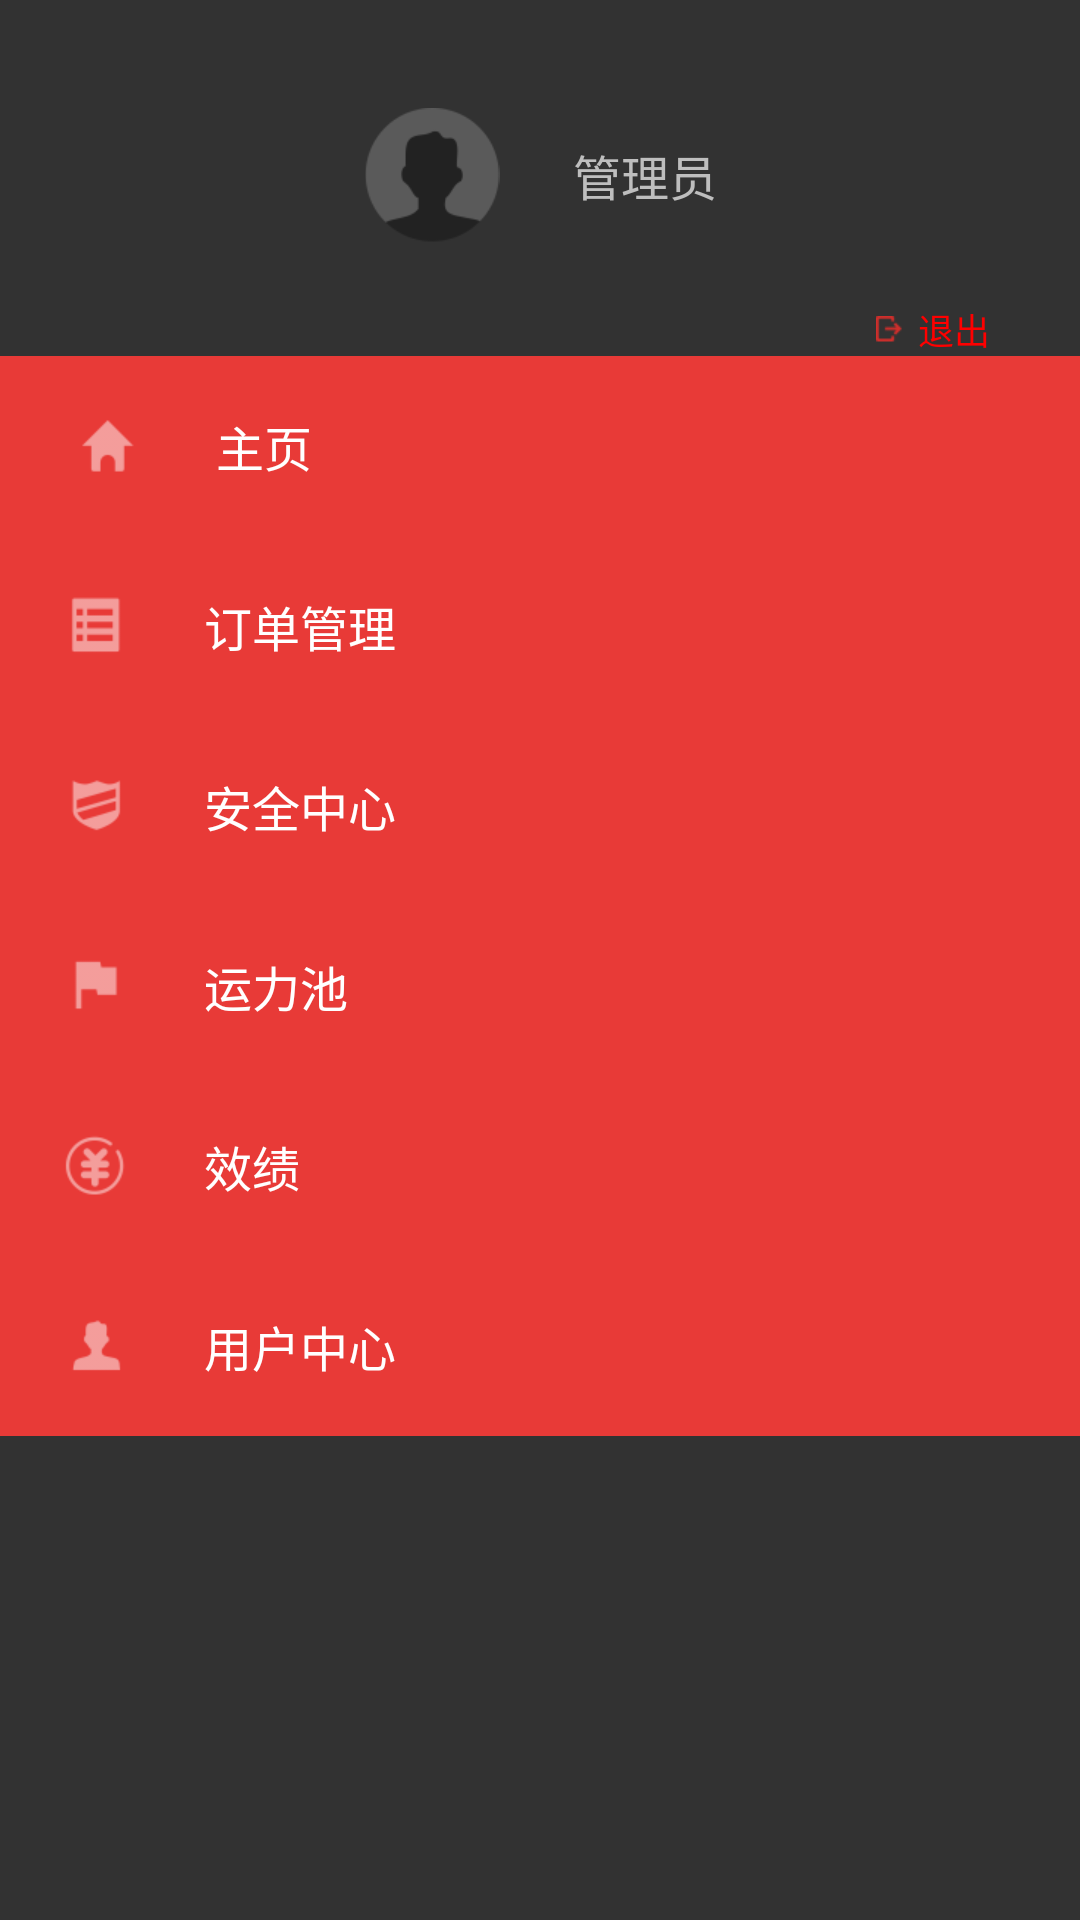

Named icons in this screenshot (1080x1920) and their bounding boxes, (x1, y1, x2, y2):
home: (82, 420, 133, 472)
order: (72, 598, 120, 652)
safe: (72, 780, 120, 830)
user: (73, 1320, 120, 1370)
